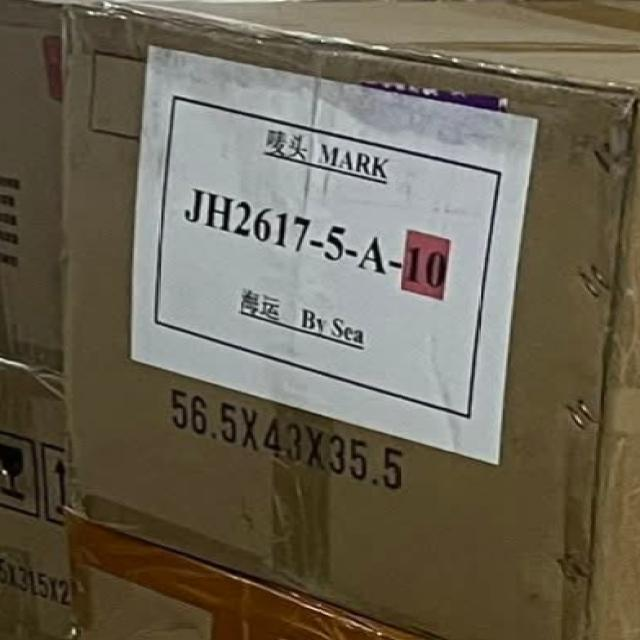carton_box: (45, 0, 640, 640)
export_mark_label: (111, 36, 555, 482)
